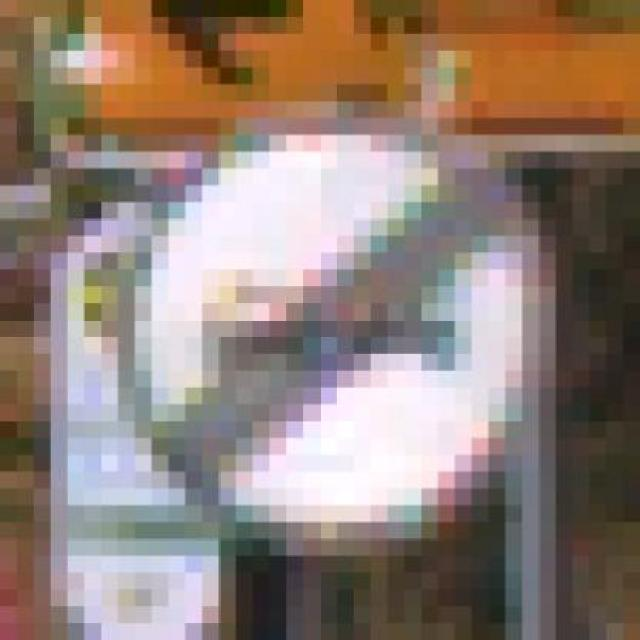No_Over_Taking: (101, 84, 573, 573)
